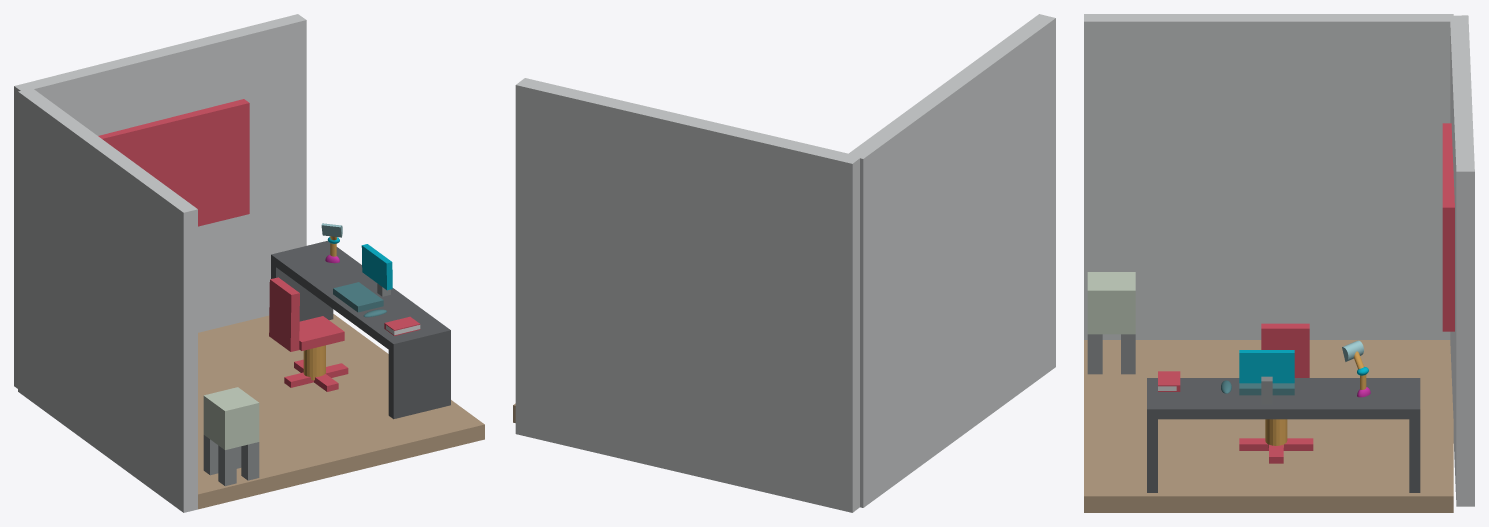
3 views of the same model, side by side, from view 1: azimuth 30°, elevation 25°; view 2: azimuth 150°, elevation 25°; view 3: azimuth 270°, elevation 25° (orthographic). The views are drawn at different scales.
Parts seen in each view (by area): view 1: Mesh_Mesh_head_geo.001_lambert2SG.001; view 2: Mesh_Mesh_head_geo.001_lambert2SG.001; view 3: Mesh_Mesh_head_geo.001_lambert2SG.001.
Part boxes in pixels (left/top/right/bottom): Mesh_Mesh_head_geo.001_lambert2SG.001: left=14, top=14, right=484, bottom=512; Mesh_Mesh_head_geo.001_lambert2SG.001: left=513, top=14, right=1055, bottom=512; Mesh_Mesh_head_geo.001_lambert2SG.001: left=1084, top=14, right=1474, bottom=512.
Bounding box in the file's own units: 105 × 100 × 106.
